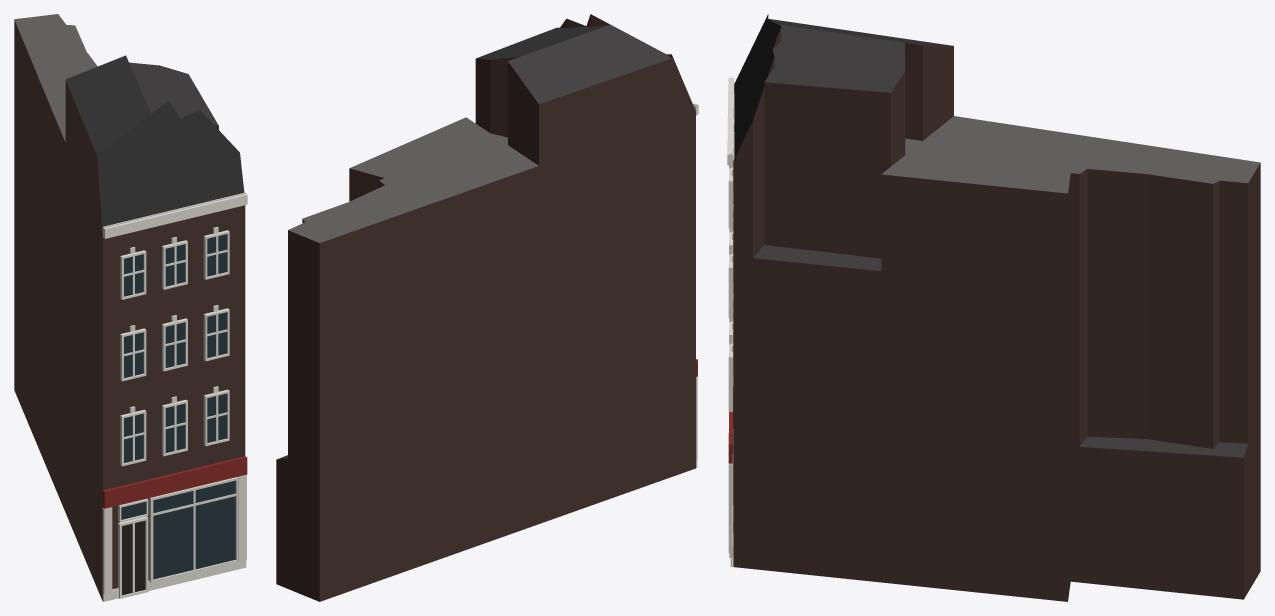
3 renders of one model, left to right at view 1: azimuth 30°, elevation 25°; view 2: azimuth 150°, elevation 25°; view 3: azimuth 270°, elevation 25°, orthographic. The views are drawn at different scales.
Parts seen in each view (by area): view 1: spec-0363100012170935; view 2: spec-0363100012170935; view 3: spec-0363100012170935.
Part boxes in pixels (<box>): spec-0363100012170935: <box>14,14,247,601</box>; spec-0363100012170935: <box>276,14,698,601</box>; spec-0363100012170935: <box>727,14,1260,601</box>.
Size of the model in its own units: 7.85 by 16.81 by 15.88.
